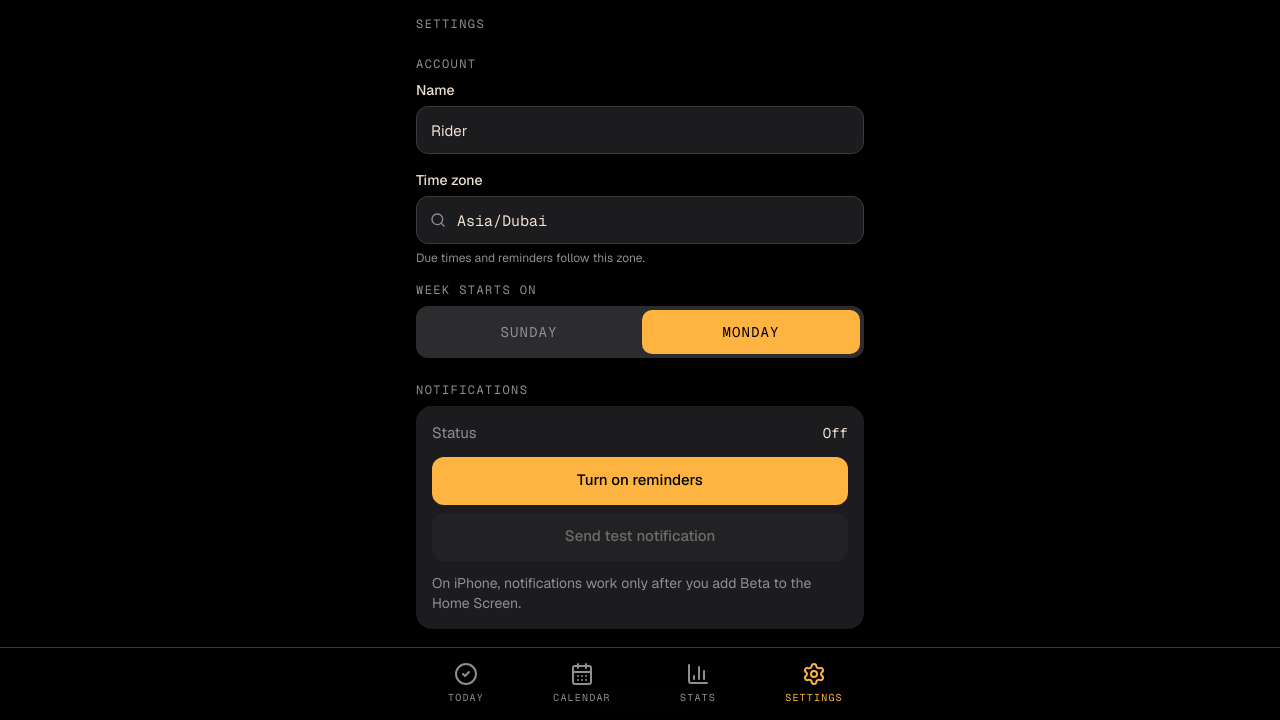
it: Settings › account auto-save › saves once after typing stops, not once per keystroke
This screenshot has width=1280, height=720.
Replace the text in the field labelled "Name" with "Rohan". click: (640, 130)
box: [416,106,864,154]
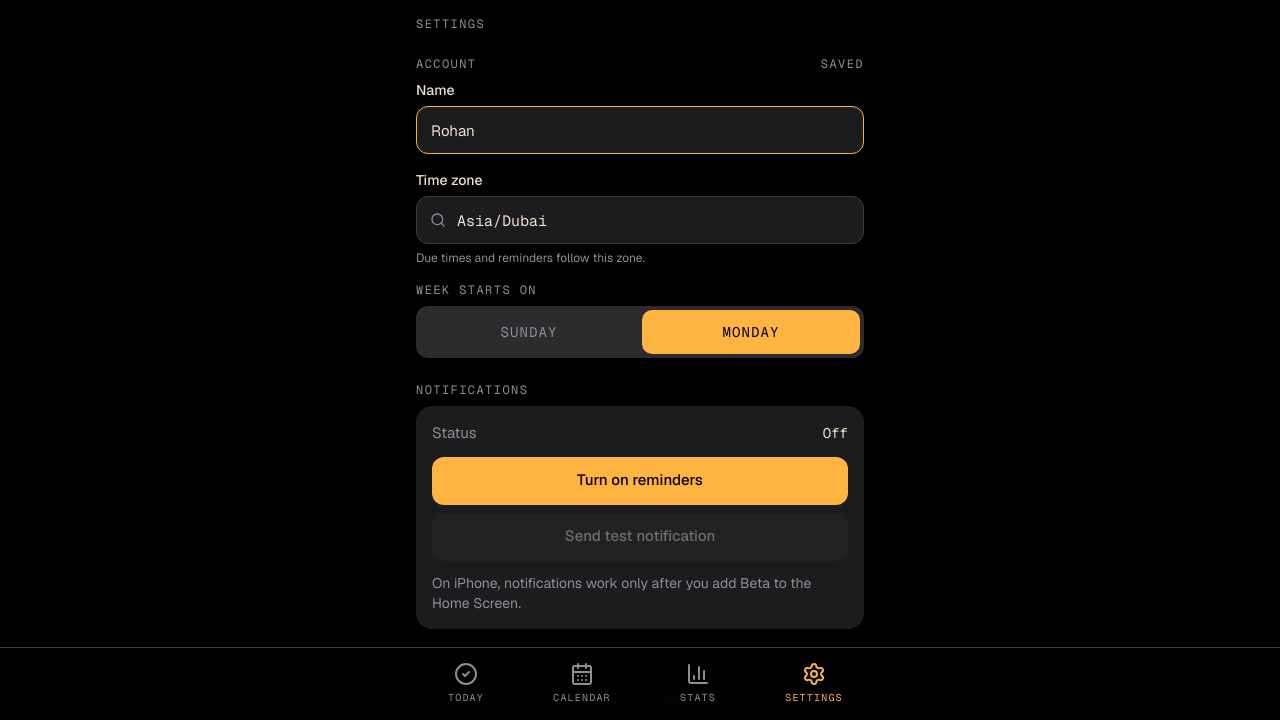
Check: the text "Saved" is shown, box [821,56,864,72]
